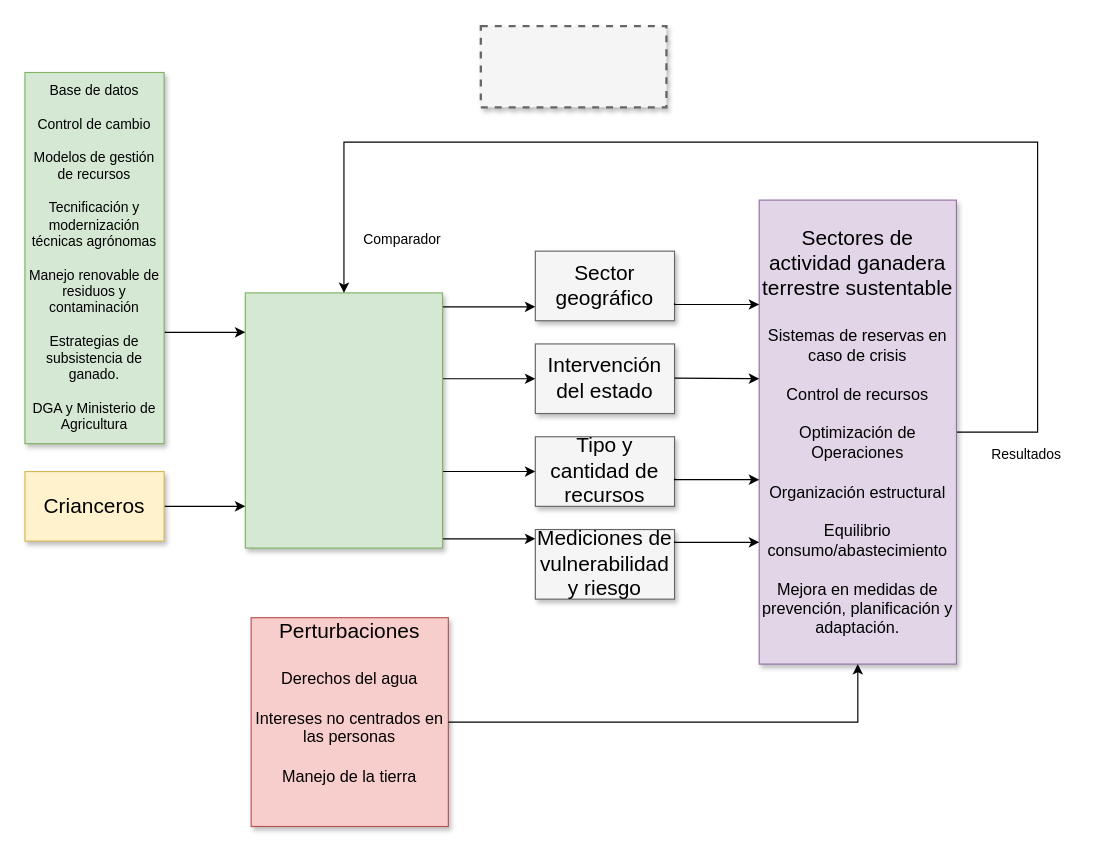
Some shapes in this 1093 by 855 pixel diagram are drawn without their labels. The shapes that lost their labels are listed below. From the top down, each one's centre as x and y in pixels, then its label:
point 574,68: Sistema de control de lazo cerrado
point 344,421: Sistema de información y capacitación agrónoma
